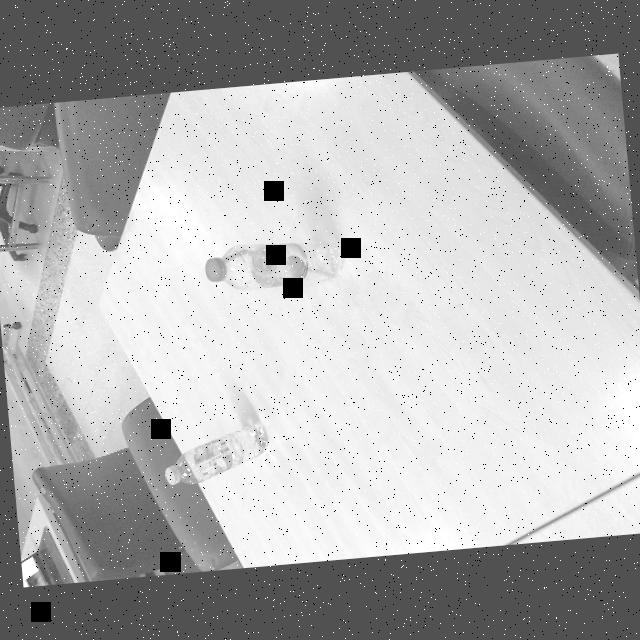plastic_bottle: (200, 235, 346, 298), (158, 421, 274, 488)
plastic_bottle_cap: (202, 256, 226, 284), (163, 465, 181, 484)
straw: (220, 240, 338, 288)
